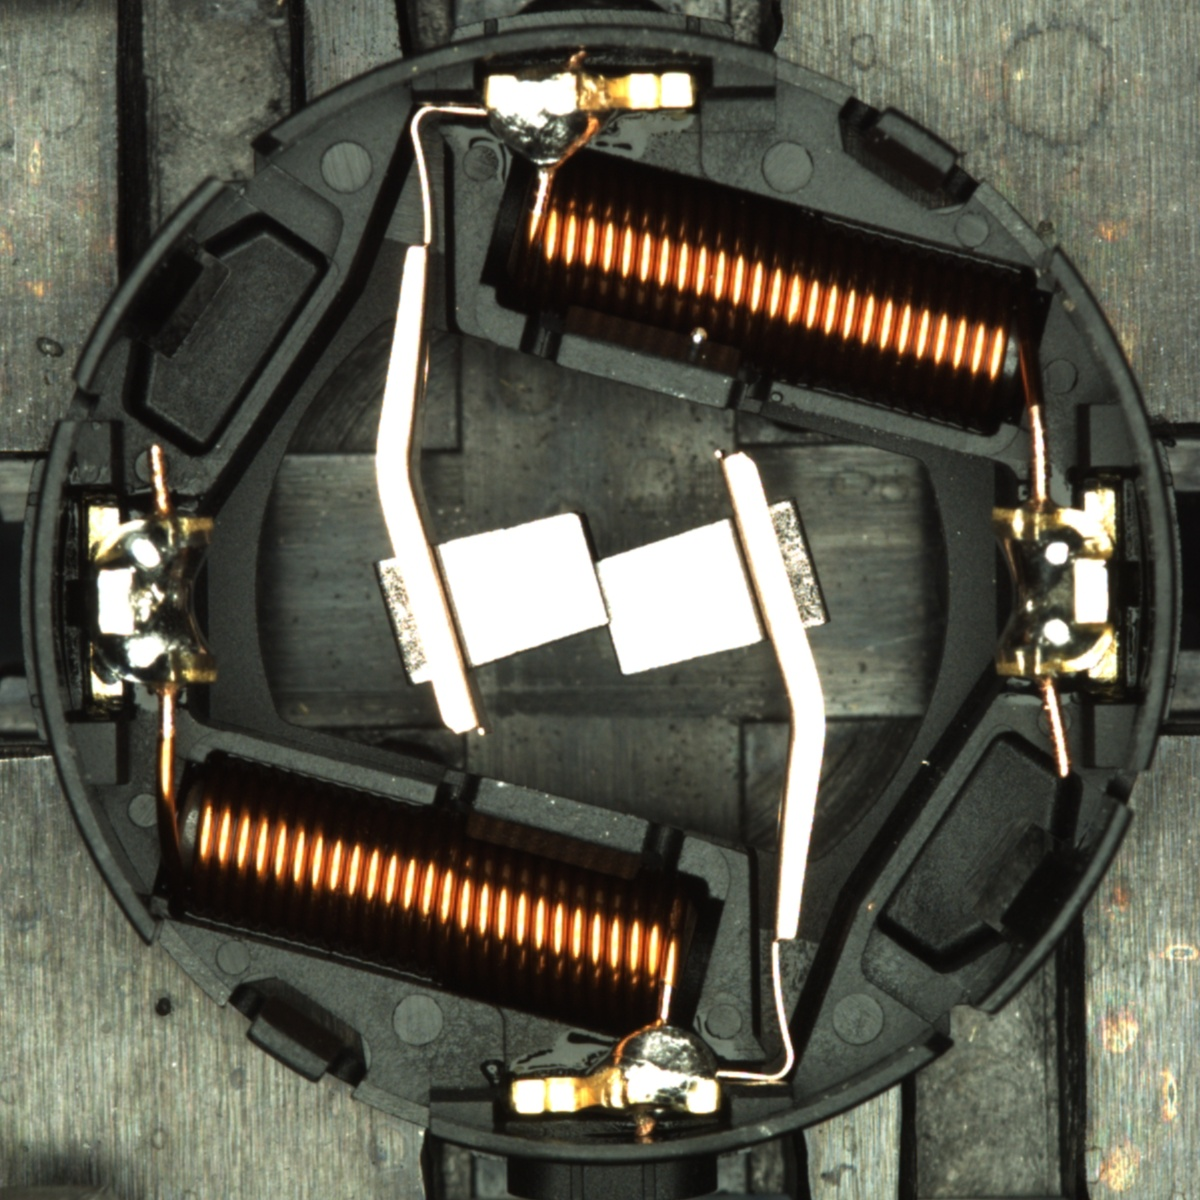1: (713, 929, 942, 1154), (255, 32, 484, 256)
2: (255, 929, 484, 1154), (713, 32, 942, 256)
3: (25, 256, 255, 480), (942, 704, 1171, 929)
4: (255, 256, 484, 480), (713, 704, 942, 929)
5: (484, 144, 713, 368), (484, 816, 713, 1041)
6: (713, 256, 942, 480), (255, 704, 484, 929)
7: (942, 256, 1171, 480), (25, 704, 255, 929)
bui_chi: (688, 329, 708, 347)
cacbon: (396, 499, 801, 686)
chau_dien: (81, 498, 222, 702), (985, 488, 1125, 688)
tay_choi: (482, 68, 700, 171), (508, 1020, 722, 1118)
thanh_de: (58, 164, 246, 405), (954, 788, 1141, 1031)
